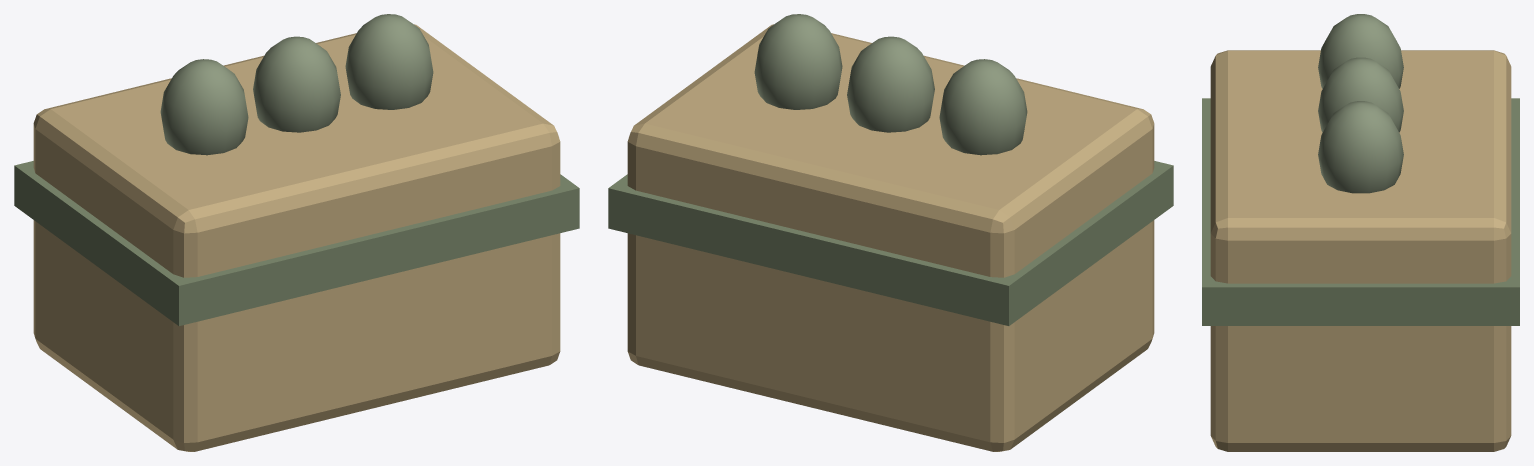
The model's file is grenade_crate.glb.
3 renders of one model, left to right at view 1: azimuth 30°, elevation 25°; view 2: azimuth 150°, elevation 25°; view 3: azimuth 270°, elevation 25°, orthographic. The views are drawn at different scales.
Visible parts, largest first — view 1: grenade_crate; view 2: grenade_crate; view 3: grenade_crate.
Boxes of the visible parts, x1,y1,x2,y2 form: grenade_crate: [14, 14, 579, 451]; grenade_crate: [608, 14, 1173, 451]; grenade_crate: [1202, 14, 1519, 451].
Bounding box in the file's own units: 0.52 × 0.395 × 0.37.
